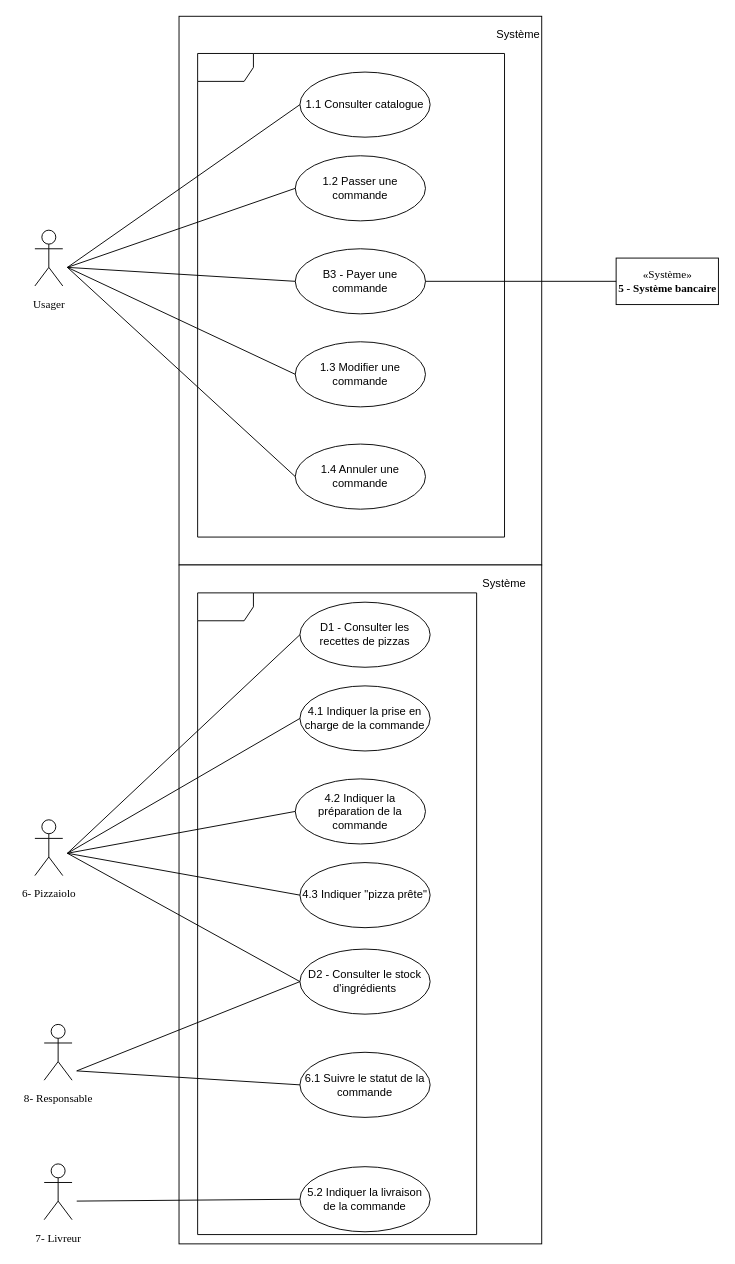
Image size: 735x1264. Some labels were removed from this diagram. The shapes that lost their labels are listed below. From the top down, each one's box as (x1, y1, x2, y2) in pixels, then its label:
(197, 53, 505, 537): Front Office
(197, 592, 477, 1235): Back Office
